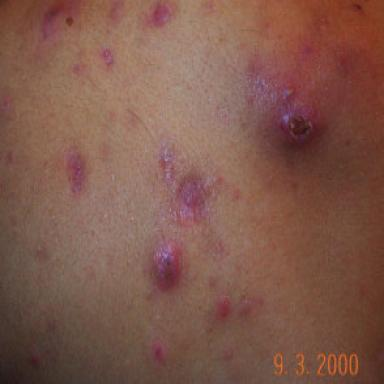acne: (177, 174, 209, 224), (154, 239, 180, 288), (281, 107, 314, 142), (146, 2, 176, 27), (159, 147, 177, 183), (217, 296, 230, 318), (101, 47, 114, 68), (152, 342, 164, 362), (281, 87, 294, 103)
